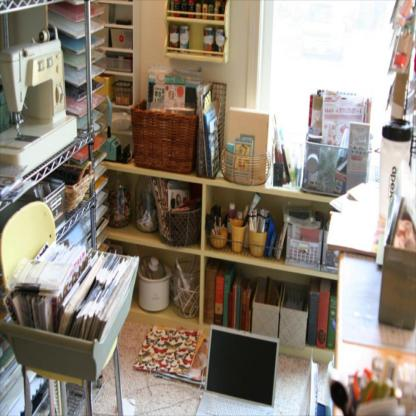book: (51, 0, 116, 241), (204, 262, 251, 331), (311, 278, 335, 349)
